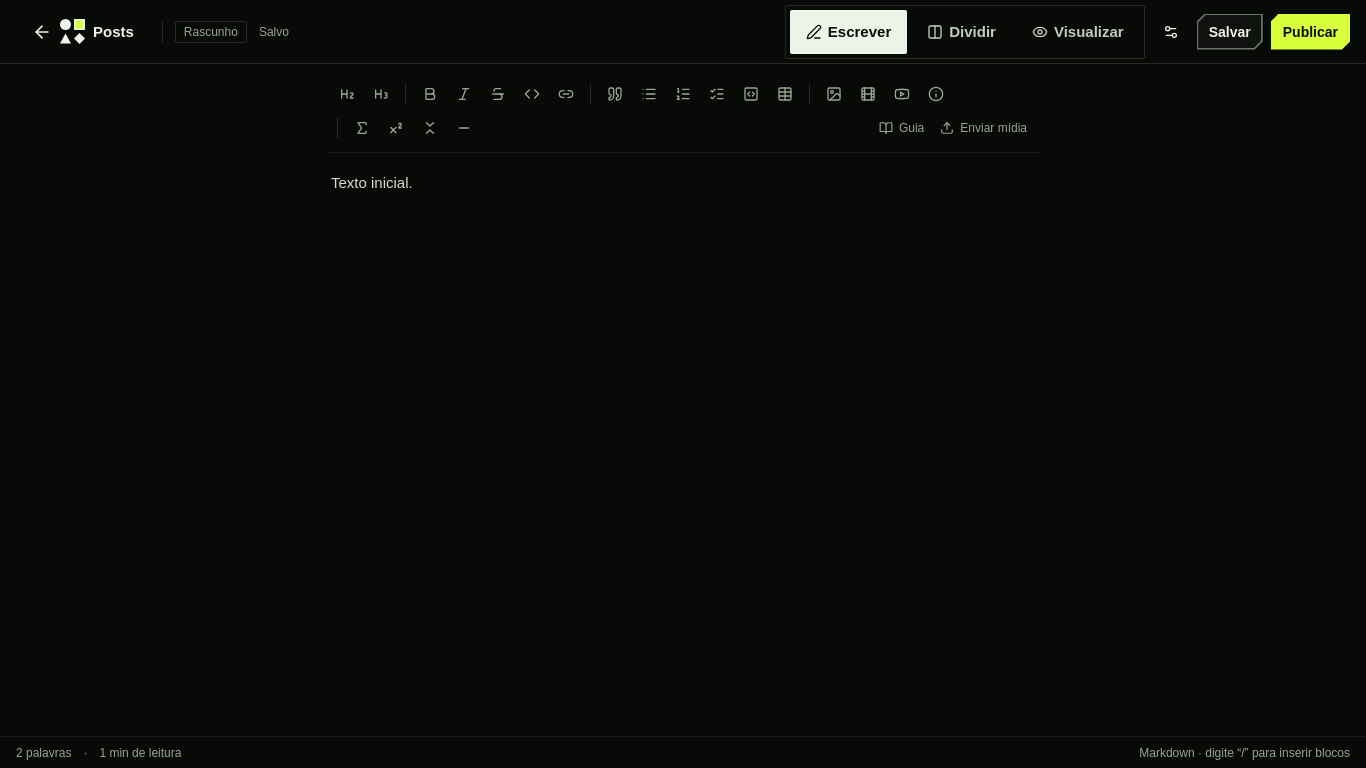
Test case: erros ao salvar › conflito de versão: "Carregar versão do servidor" descarta a edição local
(page scrolled)
Replace the text in the text box named "Conteúdo do post em Markdown" with "Minha versão." at point(683, 400), box x1=331 y1=169 x2=1035 y2=630
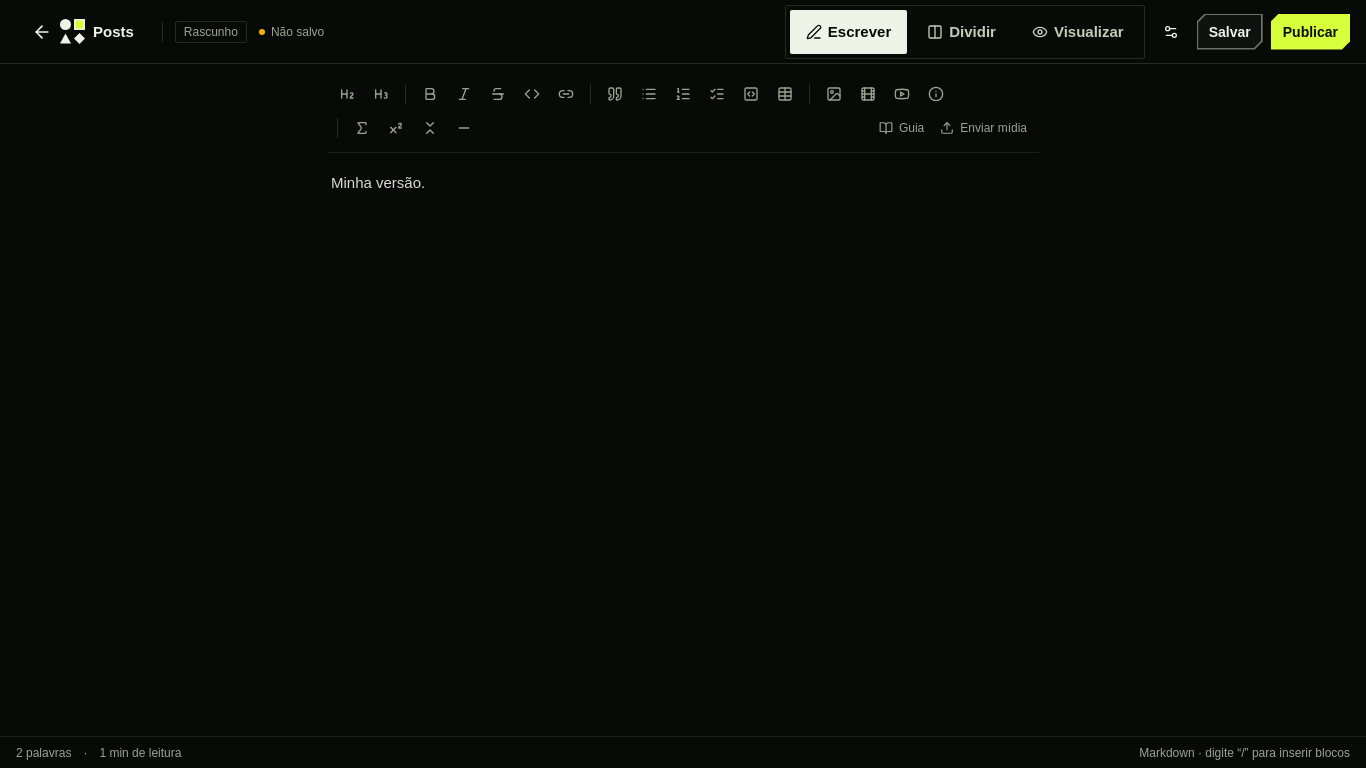
Click the button "Salvar".
click(1230, 32)  # box x1=1197 y1=14 x2=1263 y2=50
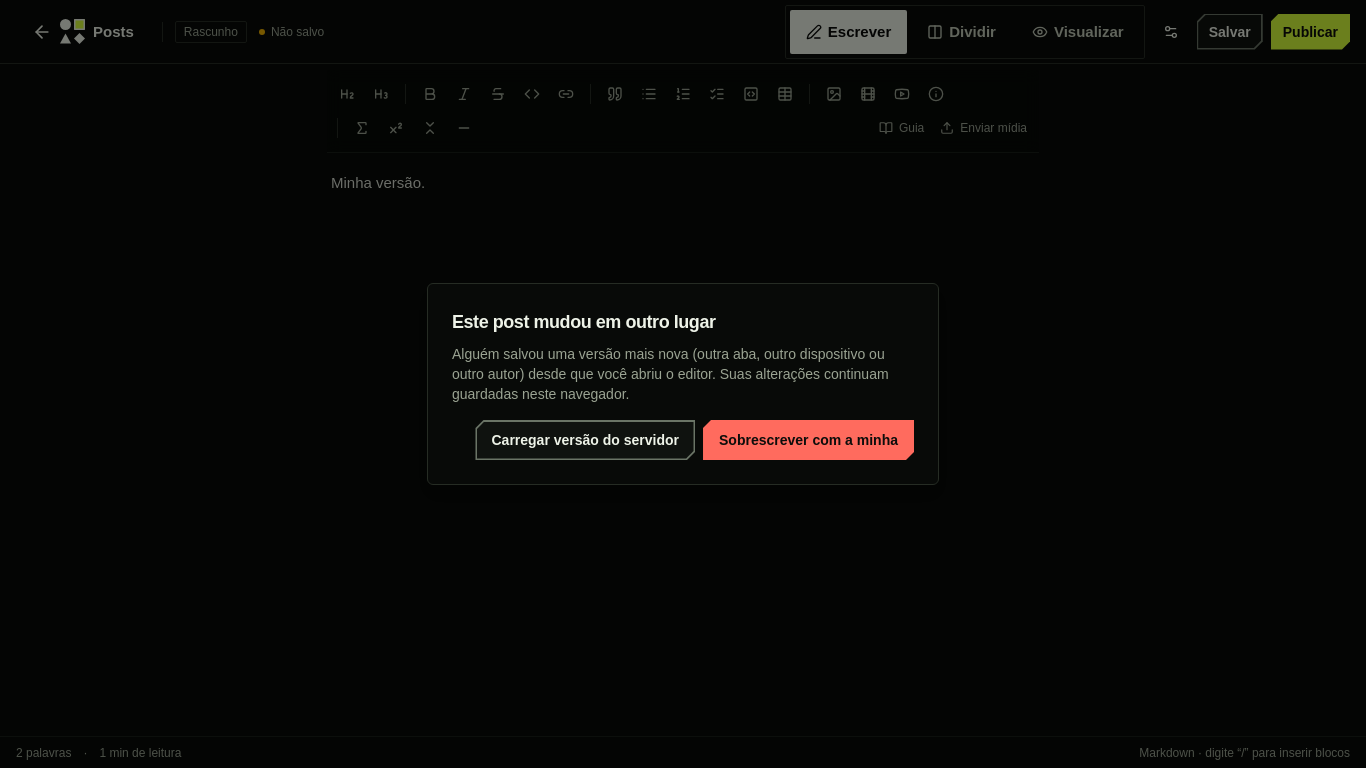
Click the button "Carregar versão do servidor".
click(585, 440)  # box x1=476 y1=420 x2=695 y2=460
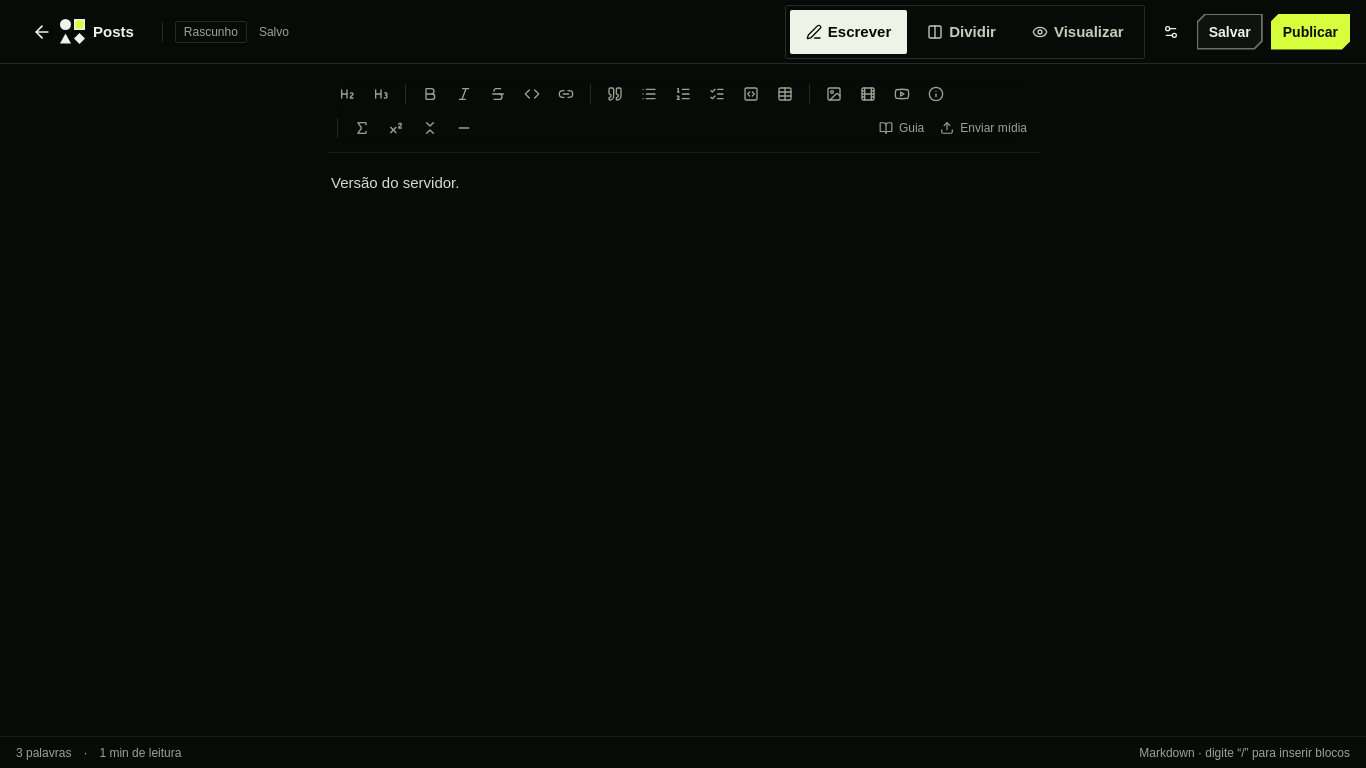
Check: the text box named "Conteúdo do post em Markdown" holds "Versão do servidor.", box x1=331 y1=169 x2=1035 y2=630
